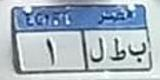1: (44, 37, 57, 67)
Taa: (109, 37, 126, 63)
baa: (128, 41, 147, 65)
laam: (88, 36, 106, 63)
